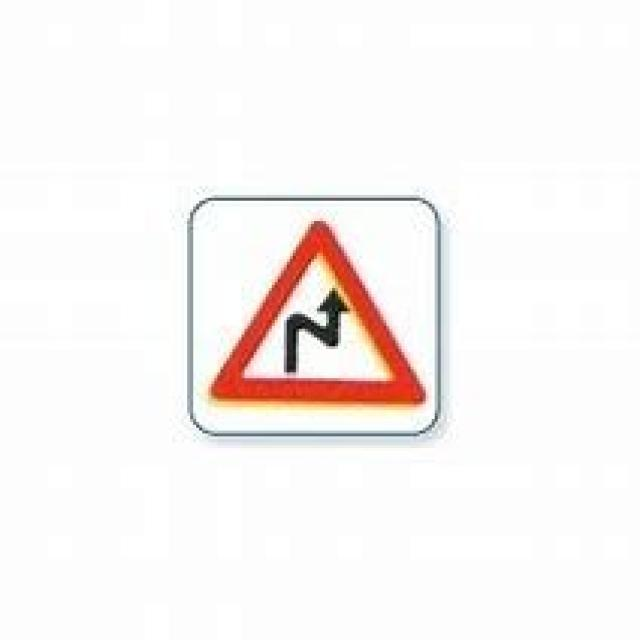right reverse bend: (203, 215, 429, 413)
